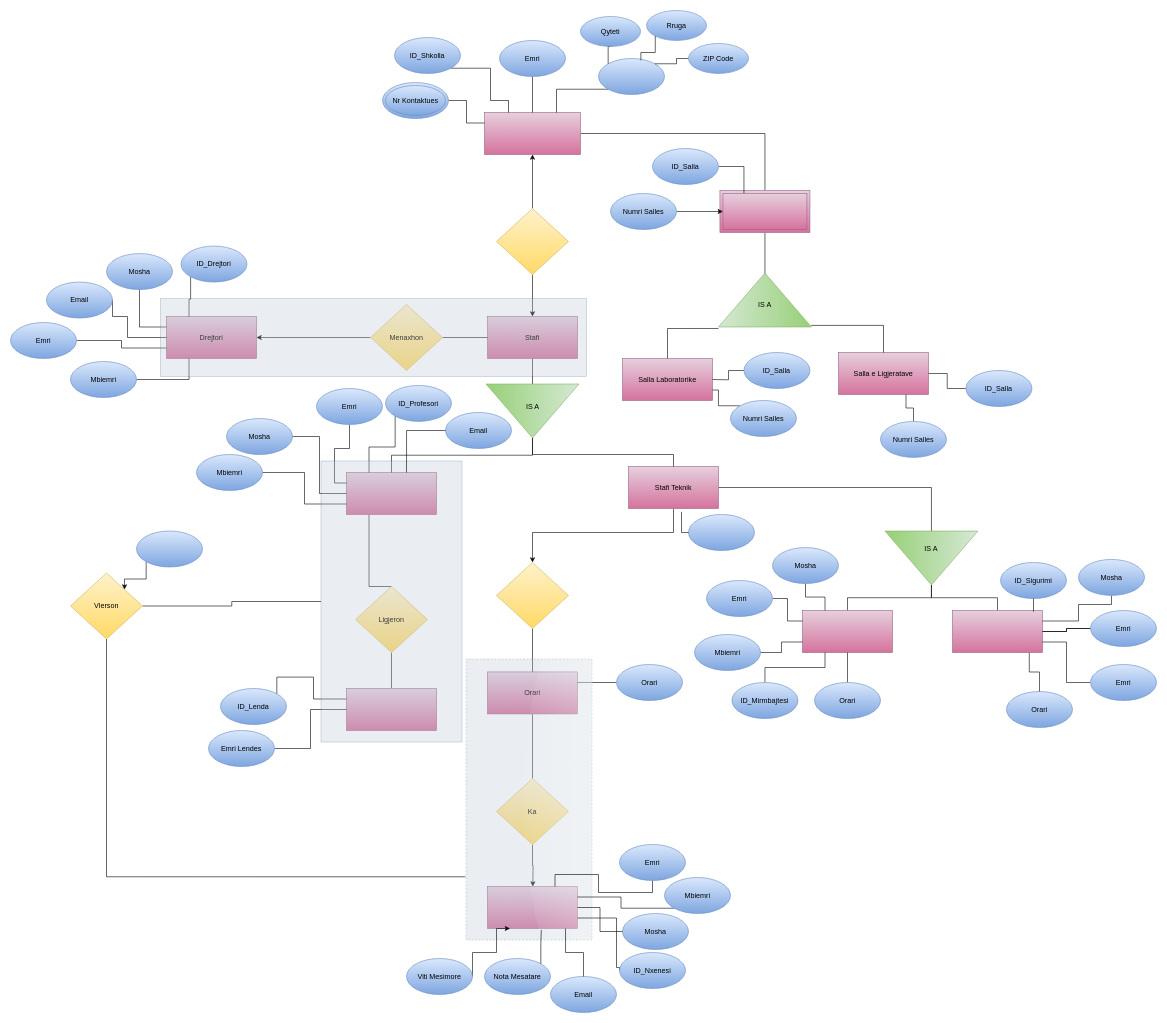
The diagram is 1167 pixels wide and 1023 high, and some of its shapes have lost their labels. Here are the shapes that lost their labels. From the top down, the box of each, then its label:
(598, 58, 664, 94): Adresa
(484, 112, 580, 154): Shkolla
(719, 190, 810, 232): Klasa
(722, 193, 807, 230): Salla
(496, 208, 568, 274): Punon
(346, 472, 436, 514): Profesori
(136, 530, 202, 567): Nota
(688, 514, 754, 550): ID_StafiTeknik
(496, 562, 568, 628): Kane
(802, 610, 892, 652): Mirmbajtesi
(952, 610, 1042, 652): Sigurimi
(346, 688, 436, 730): Lenda
(487, 886, 578, 928): Nxenesi
